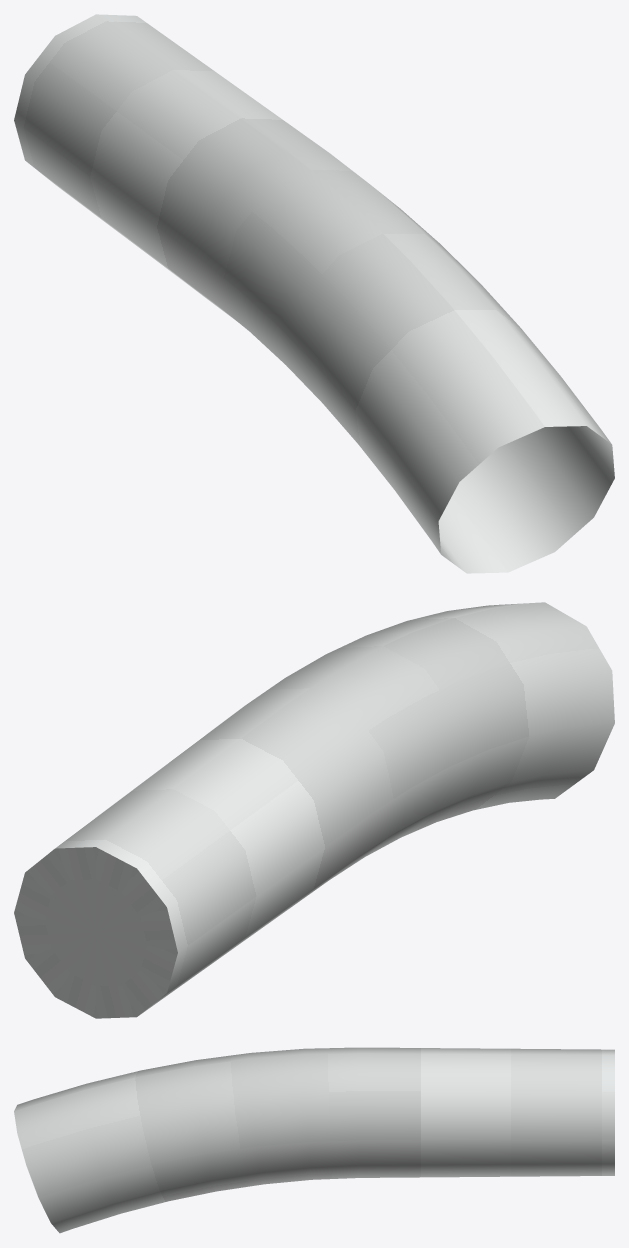
File: luminairearm_caltrans8ftstraight_c4.obj
3 renders of one model, top to bottom at view 1: azimuth 30°, elevation 25°; view 2: azimuth 150°, elevation 25°; view 3: azimuth 270°, elevation 25°, orthographic. The views are drawn at different scales.
Visible parts, largest first — view 1: luminairearm_caltrans8ftstraight_c4; view 2: luminairearm_caltrans8ftstraight_c4; view 3: luminairearm_caltrans8ftstraight_c4.
Part boxes in pixels (x1,y1,x2,y2): luminairearm_caltrans8ftstraight_c4: [14, 14, 614, 573]; luminairearm_caltrans8ftstraight_c4: [14, 602, 614, 1018]; luminairearm_caltrans8ftstraight_c4: [14, 1047, 614, 1233].
Bounding box in the file's own units: 0.1883 × 0.2642 × 0.8299.
